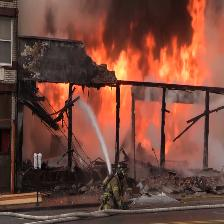fire: (112, 50, 201, 82)
smoke: (118, 2, 188, 40)
